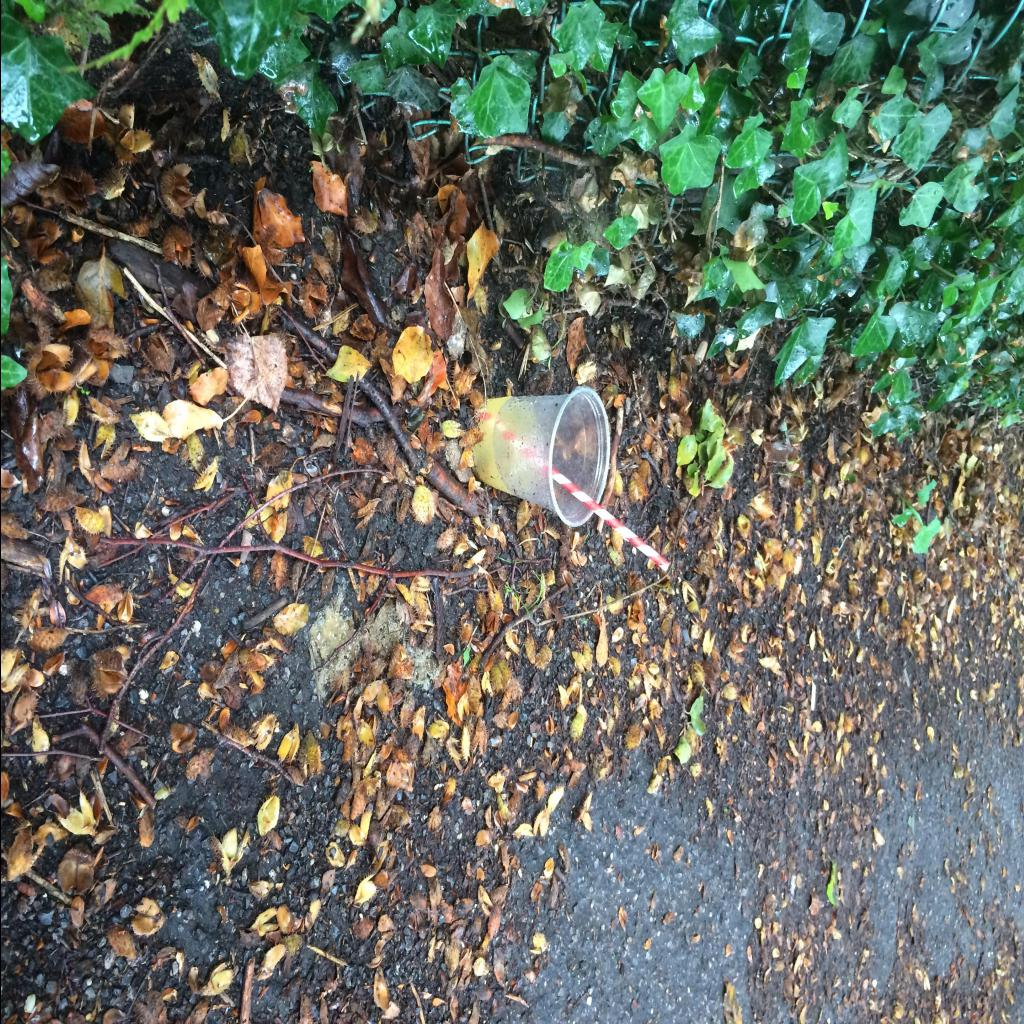Disposable plastic cup: (470, 386, 608, 526)
Paper straw: (551, 466, 669, 572)
